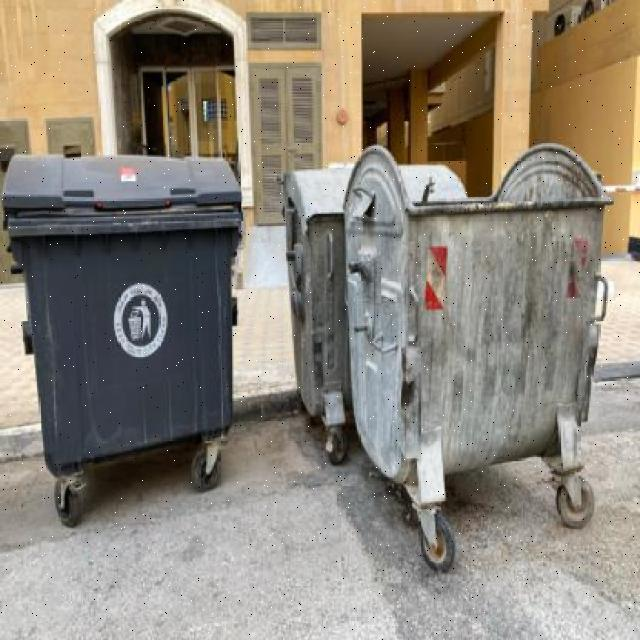garbage container: (1, 145, 250, 540)
